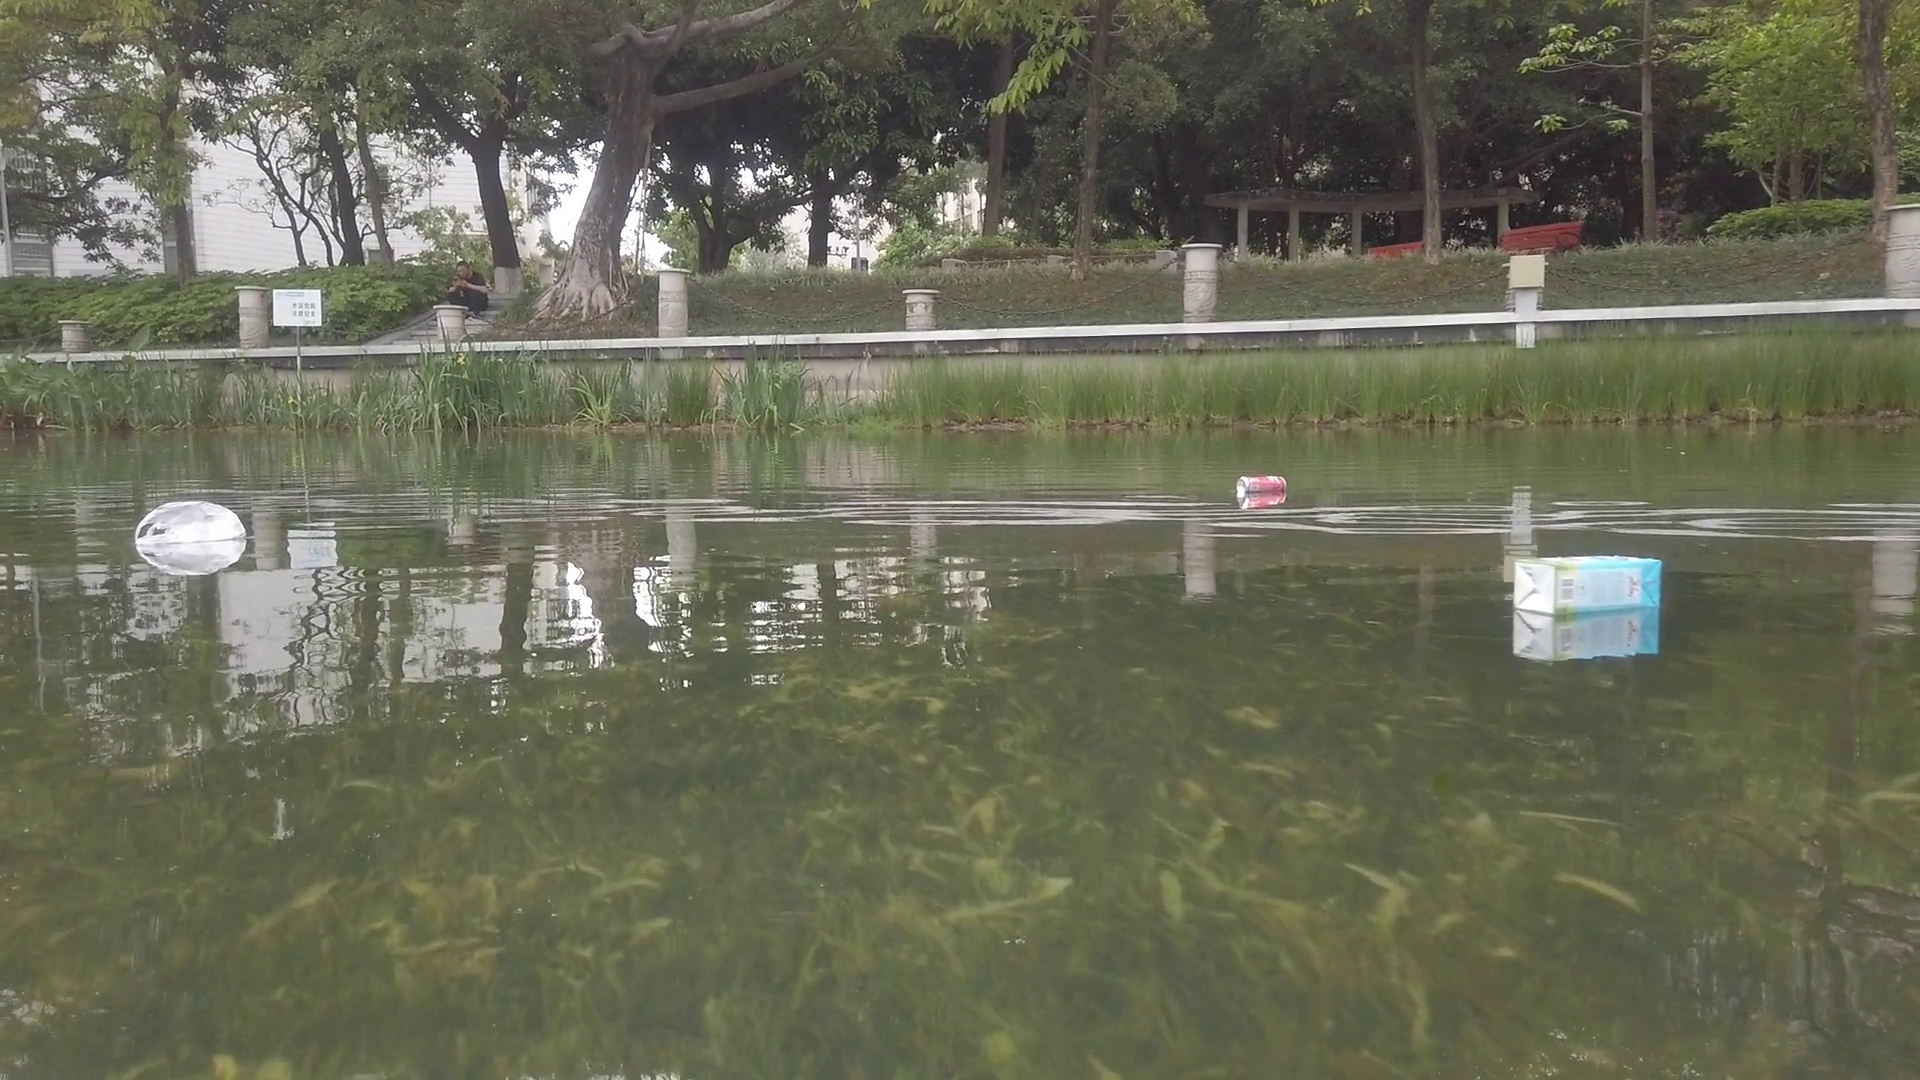bottle: (1237, 473, 1288, 496)
carton: (1515, 553, 1665, 611)
plastic: (133, 504, 244, 545)
